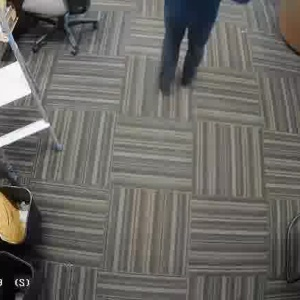person: (151, 0, 221, 95)
